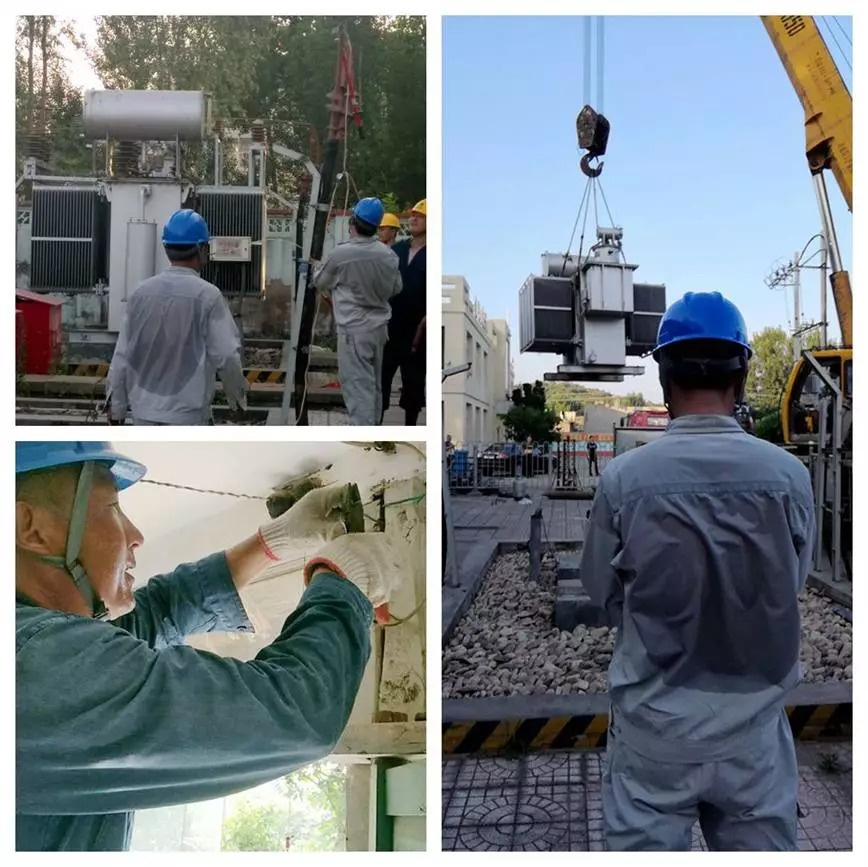blue: (18, 441, 147, 619), (655, 288, 756, 416), (161, 207, 210, 267), (347, 195, 385, 238)
yellow: (378, 208, 400, 242), (410, 199, 427, 234)
